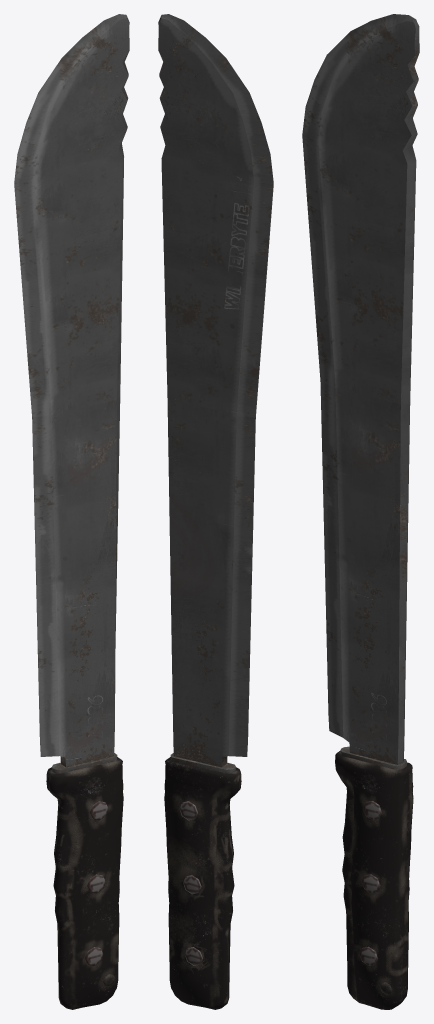
The model's file is Machete.fbx.
3 renders of one model, left to right at view 1: azimuth 30°, elevation 25°; view 2: azimuth 150°, elevation 25°; view 3: azimuth 330°, elevation 25°, orthographic.
Visible parts, largest first — view 1: Machete; view 2: Machete; view 3: Machete.
Boxes of the visible parts, box(x1,y1,x2,y2) form: Machete: box(14, 14, 129, 1009); Machete: box(158, 14, 273, 1009); Machete: box(302, 14, 419, 1009).
Size of the model in its own units: 132 by 1073 by 33.12.
Materials: 1 (1 with a texture image).
